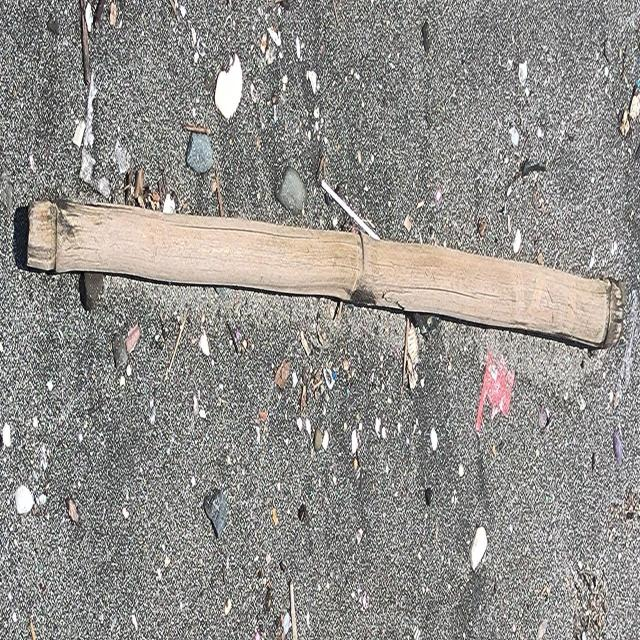litter: (24, 195, 624, 353)
